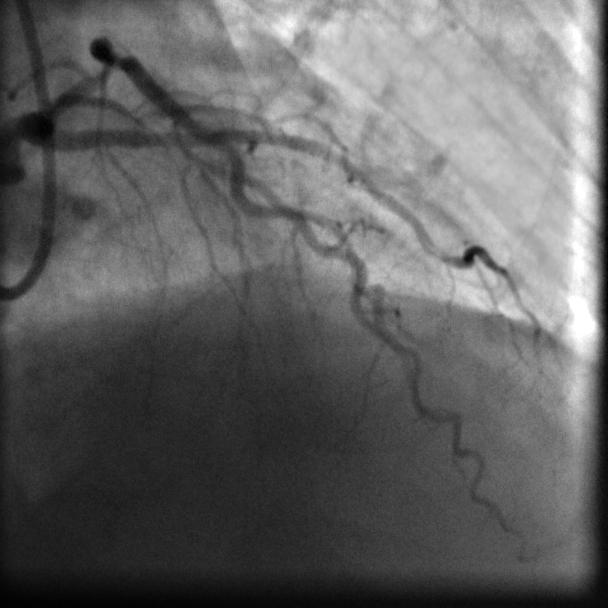Stenosis: (107, 39, 138, 79)
